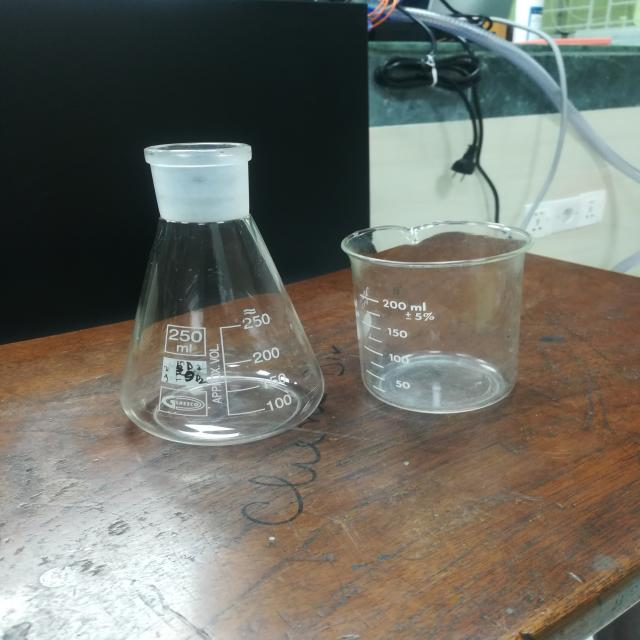Beaker: (344, 215, 577, 432)
Conical_Flask: (88, 126, 326, 461)
